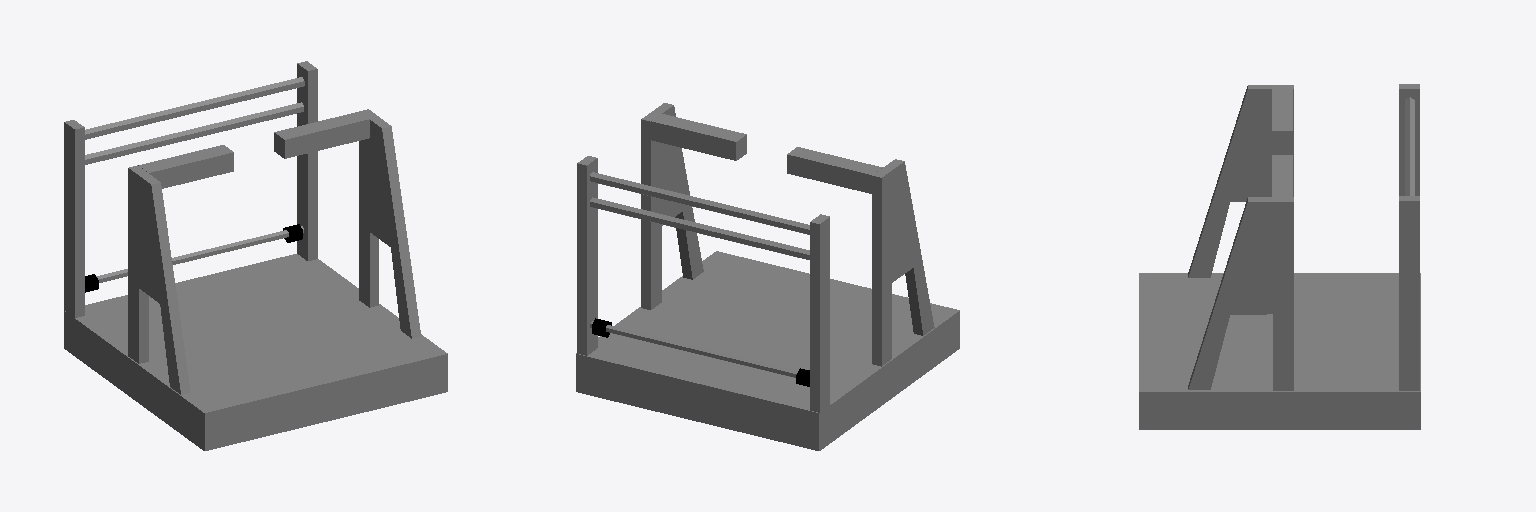
The model's file is Jaeger_BodyMesh.obj.
3 views of the same model, side by side, from view 1: azimuth 30°, elevation 25°; view 2: azimuth 150°, elevation 25°; view 3: azimuth 270°, elevation 25° (orthographic).
Parts seen in each view (by area): view 1: Jaeger_BodyMesh; view 2: Jaeger_BodyMesh; view 3: Jaeger_BodyMesh.
Part boxes in pixels (x1,y1,x2,y2): Jaeger_BodyMesh: (64,61,447,450); Jaeger_BodyMesh: (576,103,959,450); Jaeger_BodyMesh: (1139,84,1420,429).
Size of the model in its own units: 2 by 1.79 by 2.